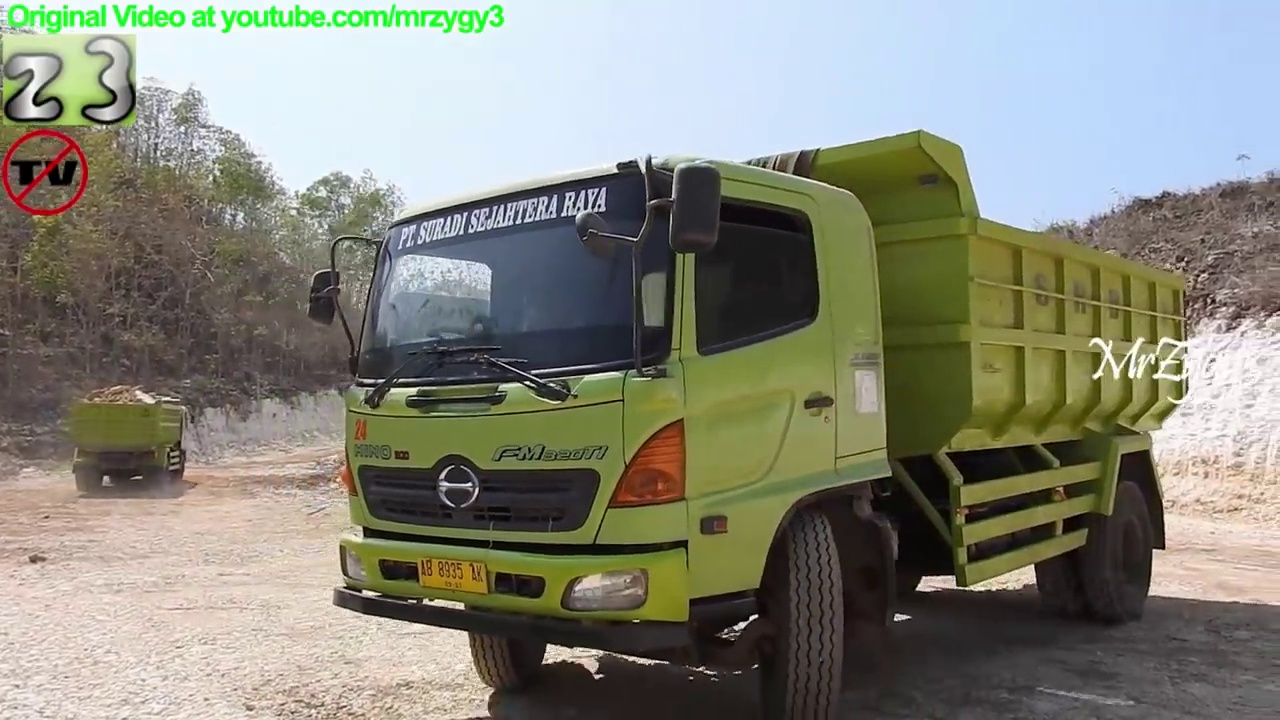truck: (300, 121, 1198, 720), (64, 390, 200, 498)
